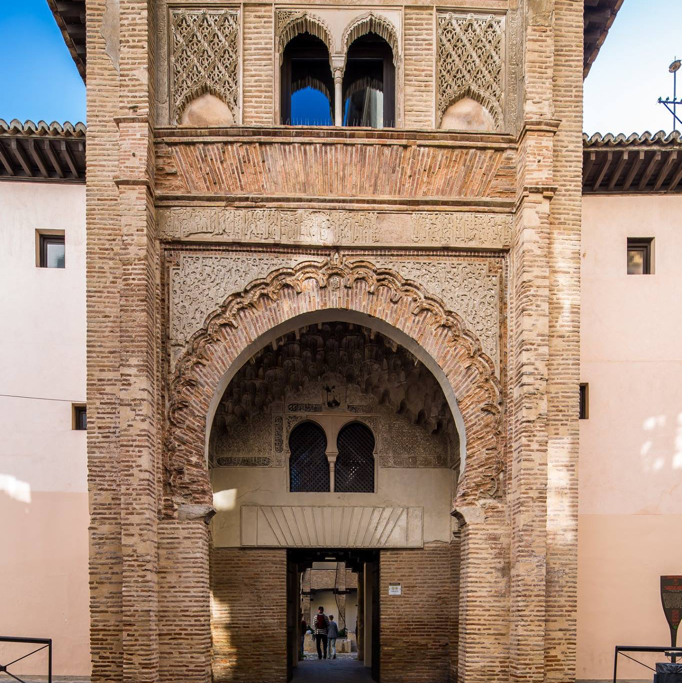arco-herradura: (196, 302, 477, 526), (285, 416, 332, 461), (335, 416, 378, 461)
dintel-adovelado: (168, 140, 503, 201), (254, 504, 411, 548)
